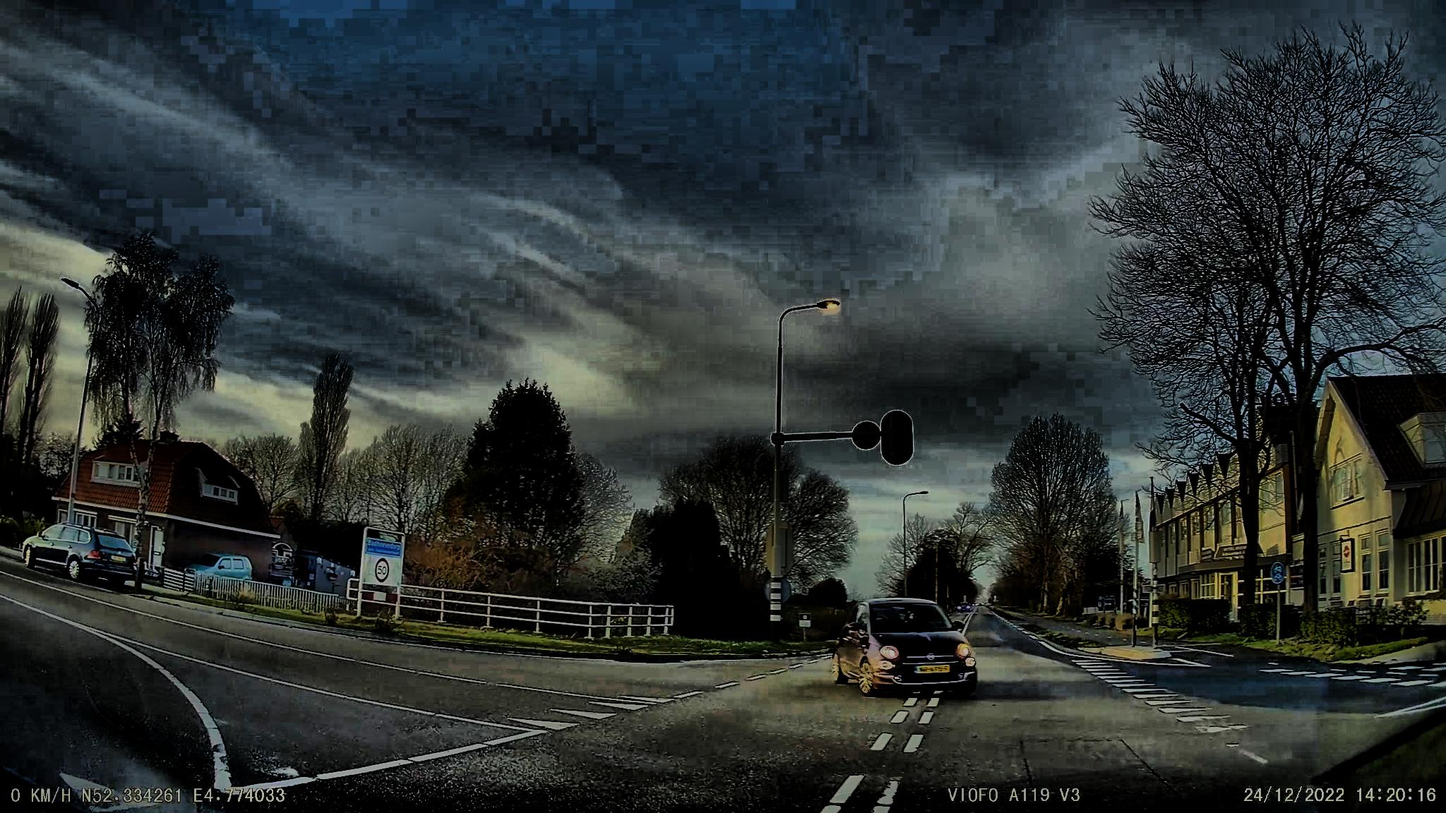Roads: (0, 553, 1446, 813)
